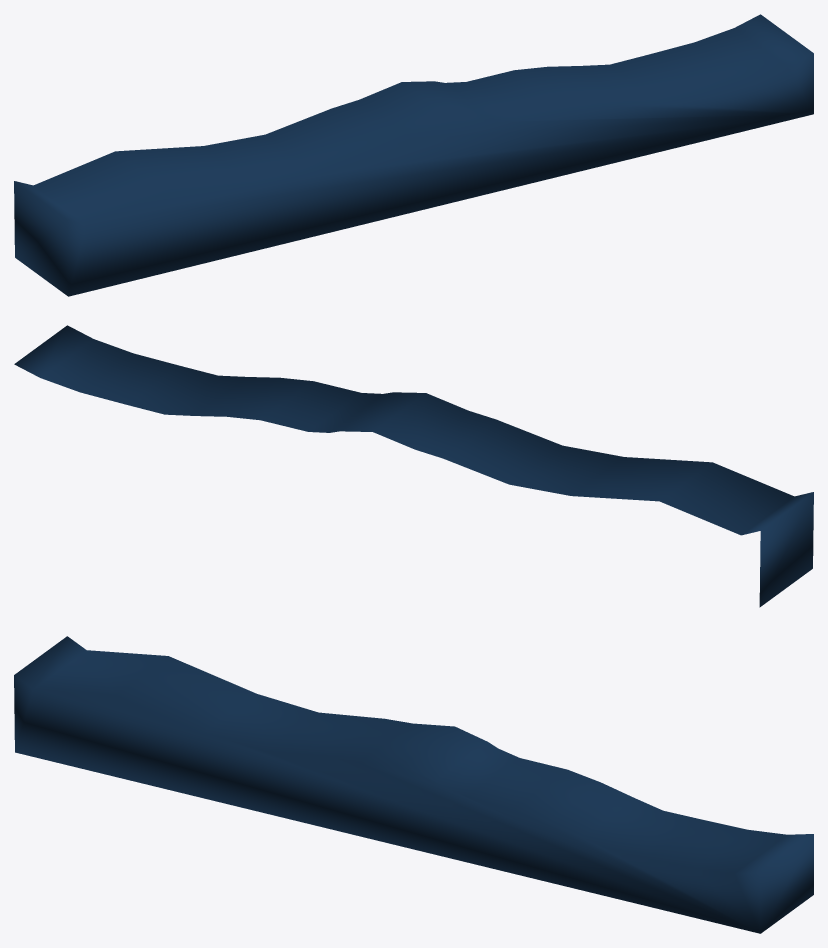
File: nearest.glb
3 views of the same model, one above another, from view 1: azimuth 30°, elevation 25°; view 2: azimuth 150°, elevation 25°; view 3: azimuth 330°, elevation 25° (orthographic).
Visible parts, largest first — view 1: Nearest; view 2: Nearest; view 3: Nearest.
Boxes of the visible parts, x1,y1,x2,y2 form: Nearest: (14, 14, 813, 296); Nearest: (14, 325, 813, 607); Nearest: (14, 636, 813, 933).
Bounding box in the file's own units: 5 × 0.5235 × 0.6187.
